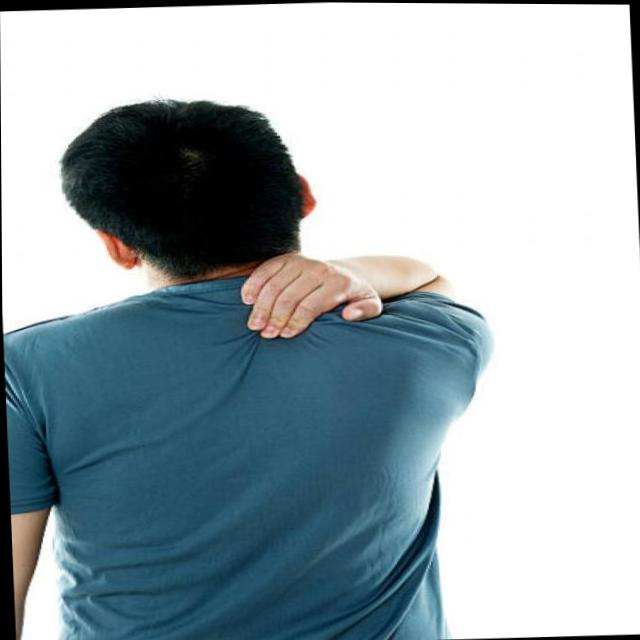no helmet: (54, 87, 338, 300)
